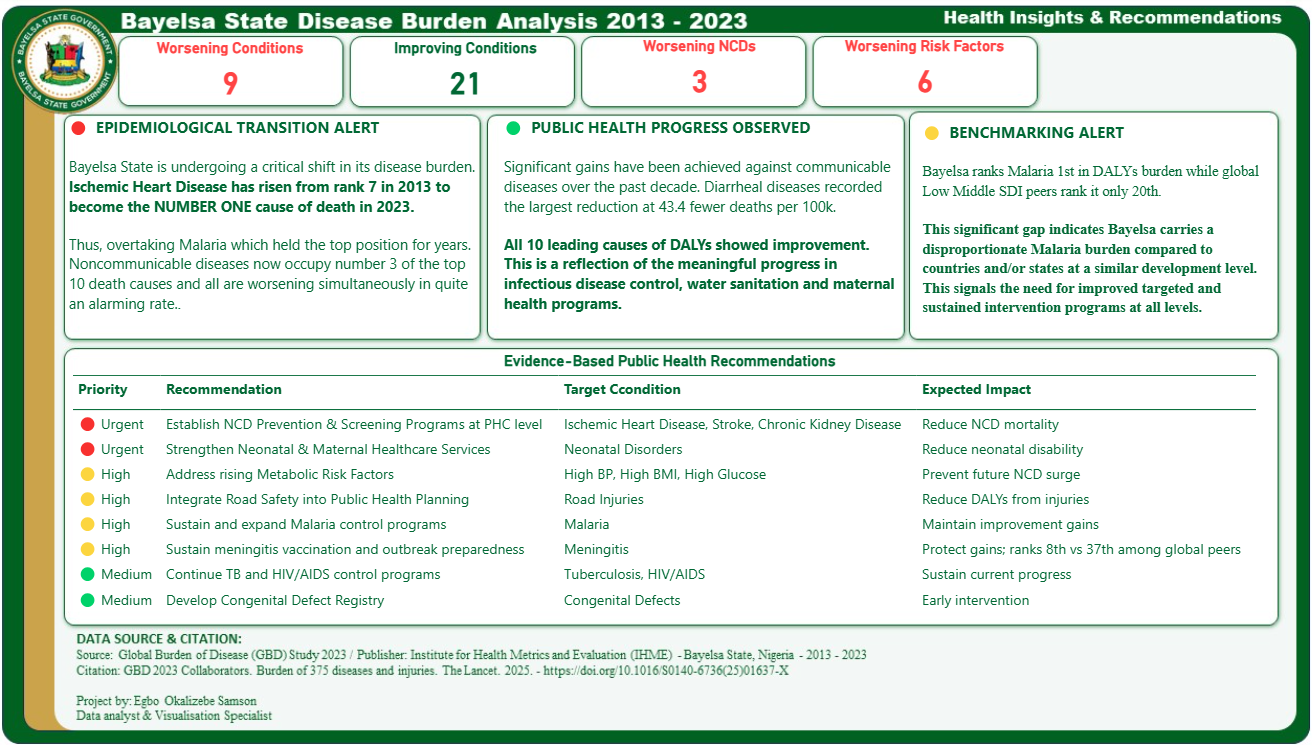

This screenshot's page, from the dashboard's own definition file:
{"tool":"powerbi","page":{"name":"Health Insights","canvas":[1280,720],"ordinal":5},"visuals":[{"type":"card","title":"Worsening Conditions","fields":{"Values":["_Measures.Worsening Conditions"]},"box":[128,43,192,64],"z":0},{"type":"card","title":"Improving Conditions","fields":{"Values":["_Measures.Improving Conditions"]},"box":[352,43,192,64],"z":1000},{"type":"card","title":"Worsening NCDs","fields":{"Values":["_Measures.Worsening NCDs"]},"box":[576,42,192,64],"z":2000},{"type":"card","title":"Worsening Risk Factors","fields":{"Values":["Risk Factors.Worsening Risk Factors"]},"box":[791,41,192,64],"z":3000},{"type":"textbox","box":[64,112,400,224],"z":4000},{"type":"textbox","box":[480,112,384,208],"z":5000},{"type":"textbox","box":[880,116,336,208],"z":6000},{"type":"tableEx","title":"Evidence-Based Public Health Recommendations","fields":{"Values":["Recommendations.Priority","Recommendations.Recommendation","Recommendations.Target Ccondition","Recommendations.Expected Impact"]},"box":[68,342,1152,256],"z":7000}]}

Visuals, with their boxes in screenshot pixels (x1, y1, x2, y2), scaled from the page's 1280x720 canvas onto the 1312x748 screenshot:
"Worsening Conditions" card: bbox=[131, 45, 328, 111]
"Improving Conditions" card: bbox=[361, 45, 558, 111]
"Worsening NCDs" card: bbox=[590, 44, 787, 110]
"Worsening Risk Factors" card: bbox=[811, 43, 1008, 109]
textbox: bbox=[66, 116, 476, 349]
textbox: bbox=[492, 116, 886, 332]
textbox: bbox=[902, 121, 1246, 337]
"Evidence-Based Public Health Recommendations" tableEx: bbox=[70, 355, 1250, 621]
